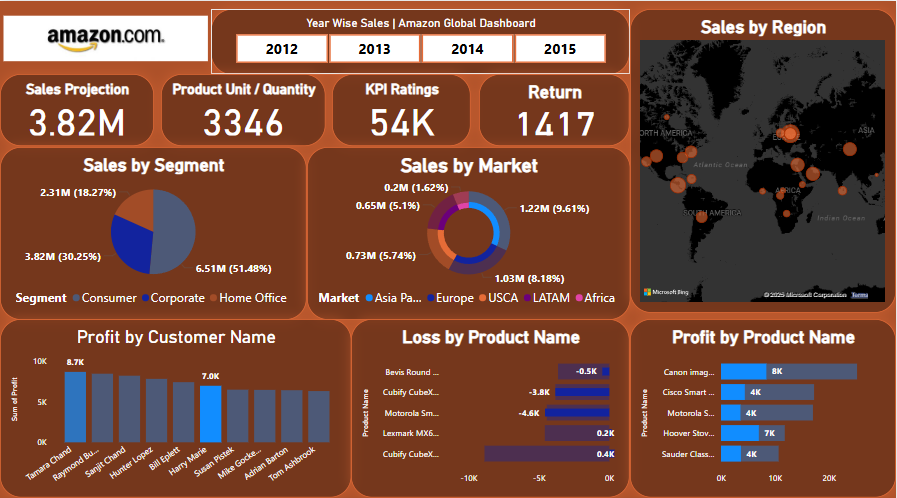

What the dashboard file says about the page in this screenshot:
{"tool":"powerbi","page":{"name":"Page 1","canvas":[1280,720],"ordinal":0},"visuals":[{"type":"slicer","title":"Year Wise Sales | Amazon Global Dashboard","fields":{"Values":["Orders.Year"]},"box":[301.9,11.3,598.1,93.5],"z":0},{"type":"card","title":"Sales Projection","fields":{"Values":["Orders.Sales"]},"box":[0,104.9,219.7,103.5],"z":1},{"type":"image","box":[0,0,301.9,106.3],"z":2},{"type":"card","title":"Product Unit / Quantity","fields":{"Values":["Orders.Product Name"]},"box":[229.6,104.9,235.3,103.5],"z":3},{"type":"card","title":"KPI Ratings","fields":{"Values":["Orders.Quantity"]},"box":[474.8,104.9,198.4,103.5],"z":4},{"type":"card","title":"Return","fields":{"Values":["Orders.Ship Date"]},"box":[684.6,104.9,215.4,103.5],"z":5},{"type":"pieChart","title":" Sales by Segment","fields":{"Category":["Orders.Segment"],"Y":["Orders.Sales"]},"box":[0,208.3,438,246.6],"z":6},{"type":"donutChart","title":" Sales by Market","fields":{"Category":["Orders.Market"],"Y":["Orders.Sales"]},"box":[438,208.3,462,246.6],"z":7},{"type":"columnChart","title":"Profit by Customer Name","fields":{"Category":["Orders.Customer Name"],"Y":["Orders.Profit"]},"box":[0,455,501.7,255.1],"z":8},{"type":"clusteredBarChart","title":"Loss by Product Name","fields":{"Category":["Orders.Product Name"],"Y":["Orders.Profit"]},"box":[501.7,455,398.3,255.1],"z":9},{"type":"clusteredBarChart","title":" Profit by Product Name","fields":{"Category":["Orders.Product Name"],"Y":["Orders.Profit"]},"box":[900,455,379.8,255.1],"z":10},{"type":"map","title":"Sales by Region","fields":{"Category":["Orders.Region"],"Size":["Orders.Sales"]},"box":[900,11.3,379.8,433.7],"z":11}]}

Visuals, with their boxes in screenshot pixels (x1, y1, x2, y2), scaled from the page's 1280x720 canvas onto the 897x498 screenshot:
"Year Wise Sales | Amazon Global Dashboard" slicer: <box>212,8,631,72</box>
"Sales Projection" card: <box>0,73,154,144</box>
image: <box>0,0,212,74</box>
"Product Unit / Quantity" card: <box>161,73,326,144</box>
"KPI Ratings" card: <box>333,73,472,144</box>
"Return" card: <box>480,73,631,144</box>
" Sales by Segment" pieChart: <box>0,144,307,315</box>
" Sales by Market" donutChart: <box>307,144,631,315</box>
"Profit by Customer Name" columnChart: <box>0,315,352,491</box>
"Loss by Product Name" clusteredBarChart: <box>352,315,631,491</box>
" Profit by Product Name" clusteredBarChart: <box>631,315,896,491</box>
"Sales by Region" map: <box>631,8,896,308</box>
